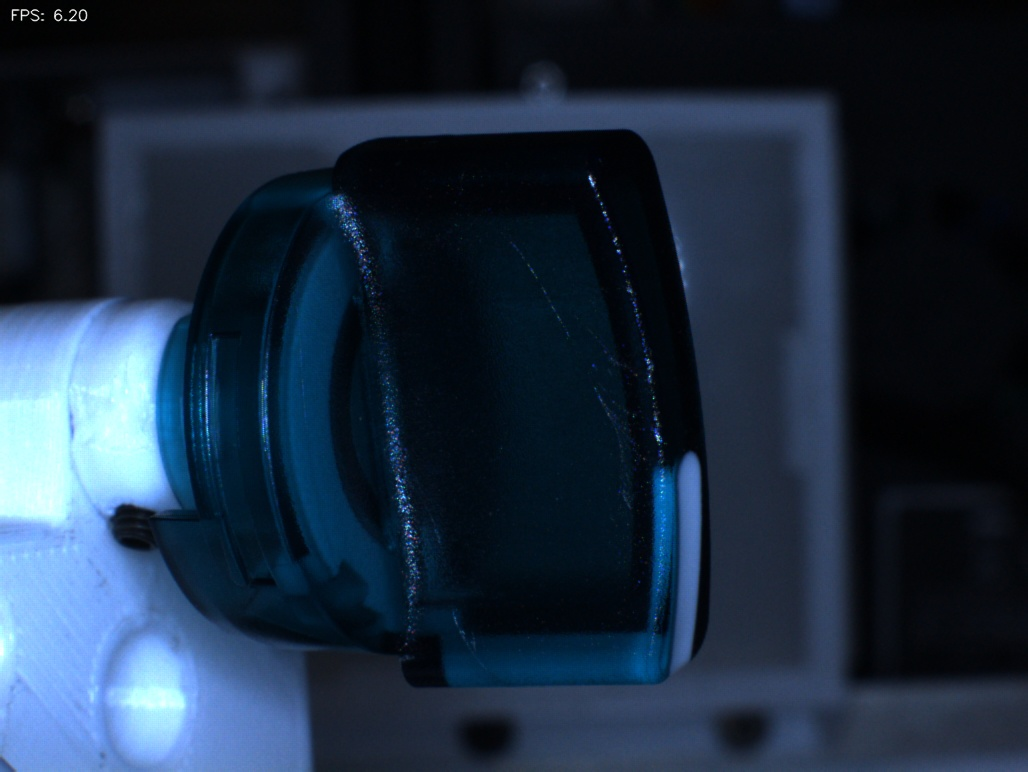Givrage: (502, 233, 606, 360), (584, 378, 659, 520)
